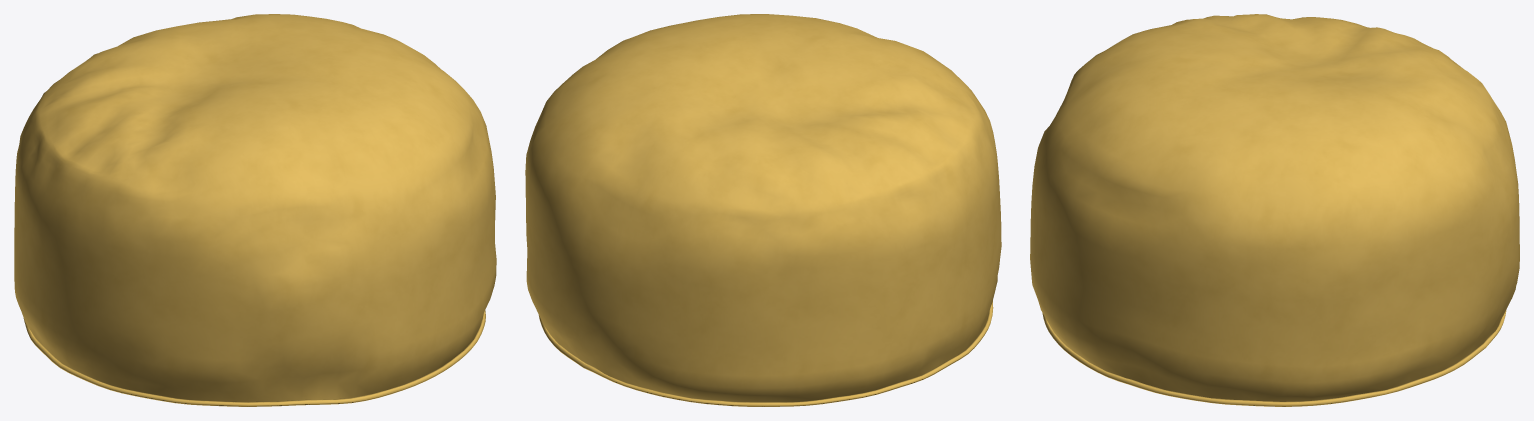
Rendered from Pouf.fbx.
3 renders of one model, left to right at view 1: azimuth 30°, elevation 25°; view 2: azimuth 150°, elevation 25°; view 3: azimuth 270°, elevation 25°, orthographic.
Visible parts, largest first — view 1: Pouf_low; view 2: Pouf_low; view 3: Pouf_low.
Boxes of the visible parts, x1=… form: Pouf_low: x1=14, y1=14, x2=496, y2=406; Pouf_low: x1=525, y1=14, x2=1001, y2=406; Pouf_low: x1=1030, y1=14, x2=1519, y2=406.
Size of the model in its own units: 121 by 68.02 by 122.
1 material, 1 textured.
